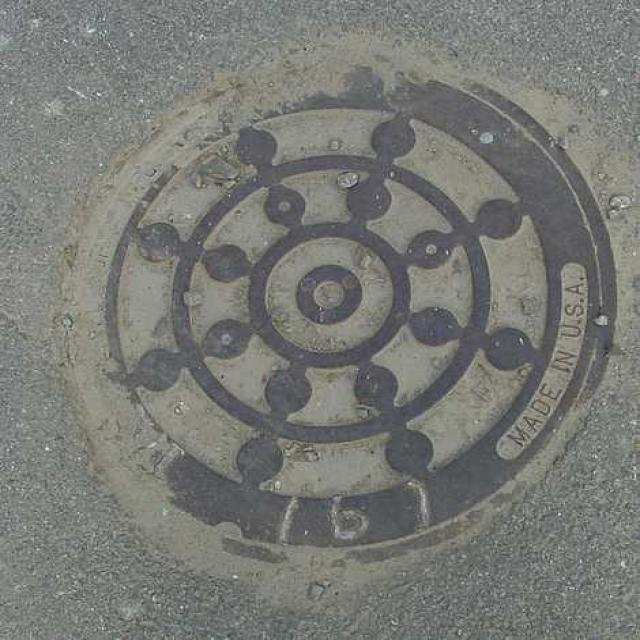manhole: (64, 42, 616, 569)
